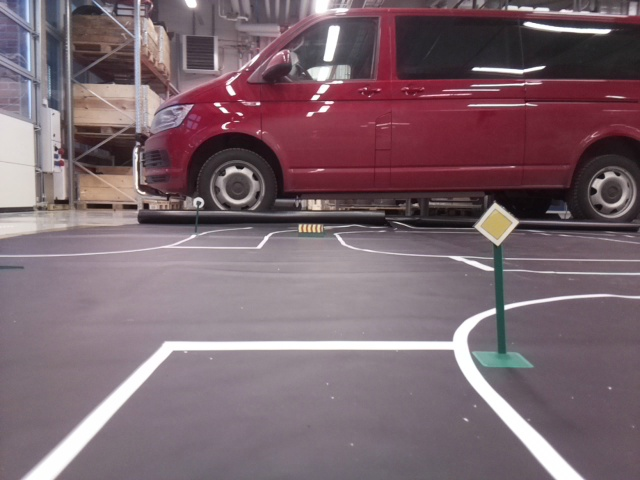Priority: (473, 201, 518, 243)
